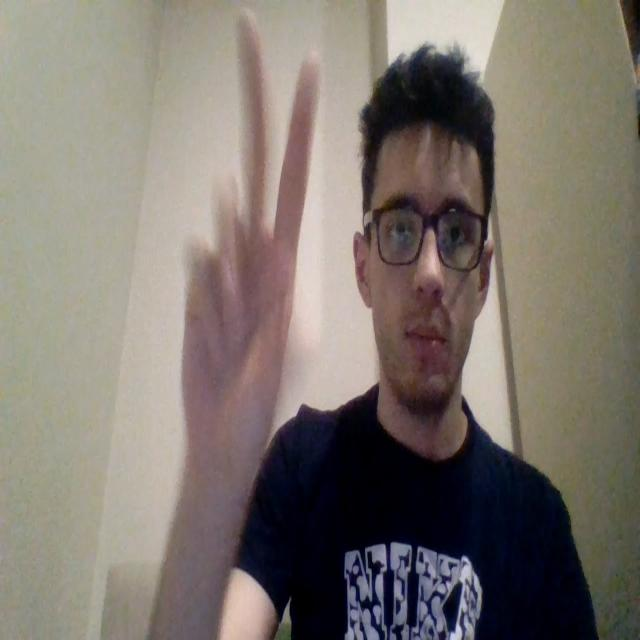no: (145, 7, 321, 638)
